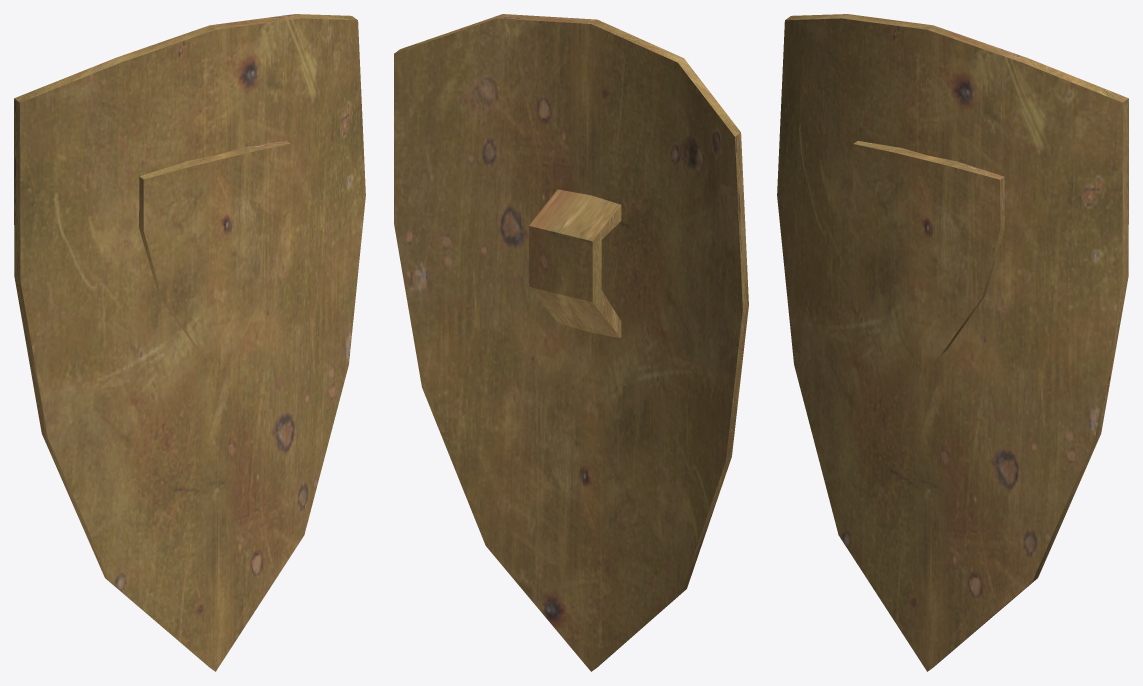
The model's file is shield.gltf.
3 renders of one model, left to right at view 1: azimuth 30°, elevation 25°; view 2: azimuth 150°, elevation 25°; view 3: azimuth 330°, elevation 25°, orthographic.
Visible parts, largest first — view 1: shield; view 2: shield; view 3: shield.
Boxes of the visible parts, x1=… form: shield: x1=14, y1=14, x2=365, y2=671; shield: x1=394, y1=14, x2=748, y2=671; shield: x1=777, y1=14, x2=1128, y2=671.
Bounding box in the file's own units: 0.6587 × 1.17 × 0.1363.
3 materials, 3 textured.
